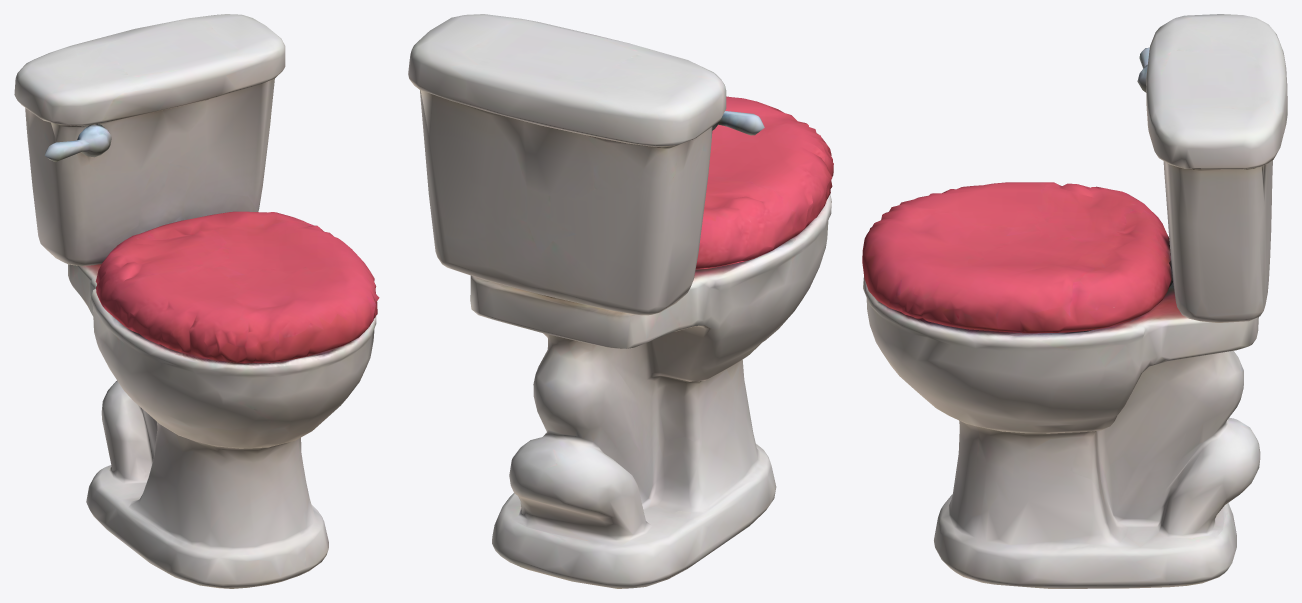
File: toilet.glb
3 renders of one model, left to right at view 1: azimuth 30°, elevation 25°; view 2: azimuth 150°, elevation 25°; view 3: azimuth 270°, elevation 25°, orthographic. The views are drawn at different scales.
Parts seen in each view (by area): view 1: toilet-node; view 2: toilet-node; view 3: toilet-node.
Boxes of the visible parts, bbox=[...] form: toilet-node: bbox=[14, 14, 379, 588]; toilet-node: bbox=[408, 14, 833, 588]; toilet-node: bbox=[862, 14, 1287, 588].
Size of the model in its own units: 0.6131 by 1 by 0.8057.
Materials: 1 (1 with a texture image).
